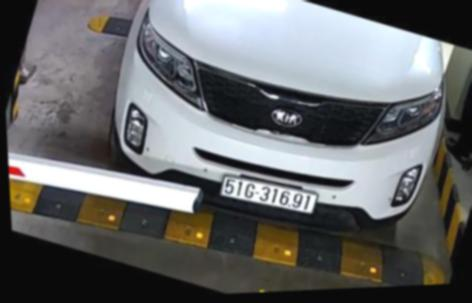License_Plate: (213, 168, 325, 227)
